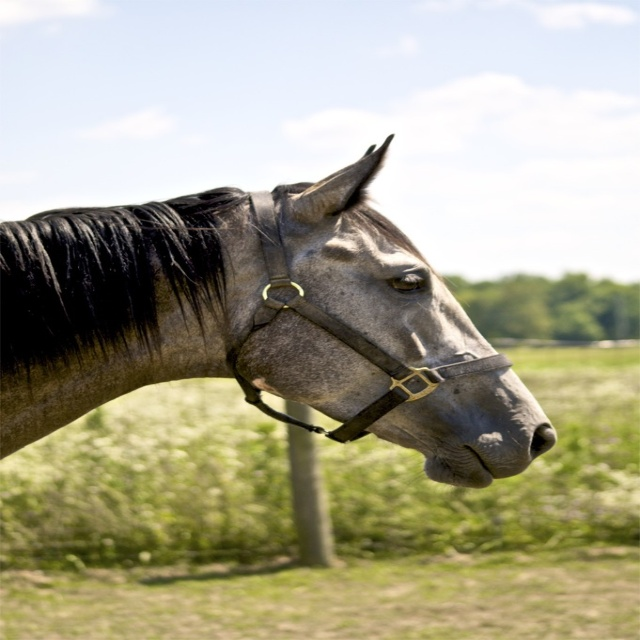Horse: (0, 130, 559, 490)
